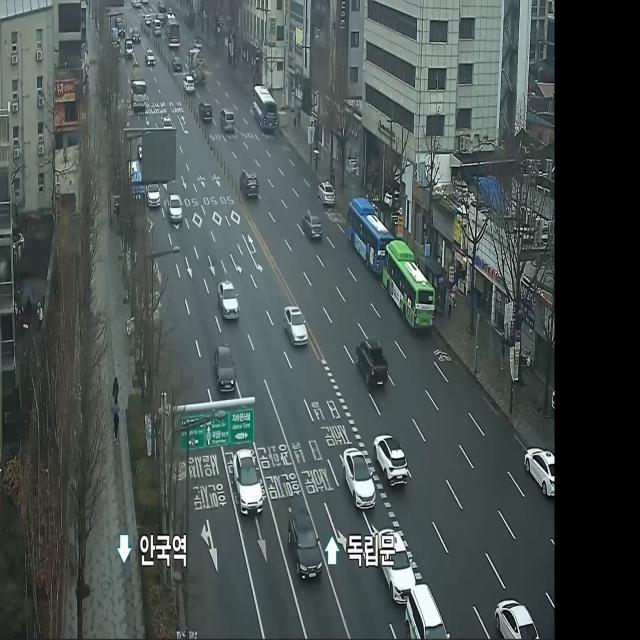car: (376, 236, 441, 342), (344, 190, 394, 275), (250, 82, 280, 136)
motorcycle: (334, 432, 380, 518), (372, 524, 420, 604), (284, 501, 326, 590), (368, 420, 414, 500), (227, 443, 271, 523), (519, 434, 560, 510), (353, 324, 393, 400), (403, 581, 452, 640), (493, 585, 541, 640), (280, 295, 314, 357), (210, 336, 240, 398), (214, 272, 243, 328), (297, 203, 326, 255), (163, 184, 192, 234), (236, 159, 264, 207), (316, 172, 338, 214), (146, 173, 163, 208)
